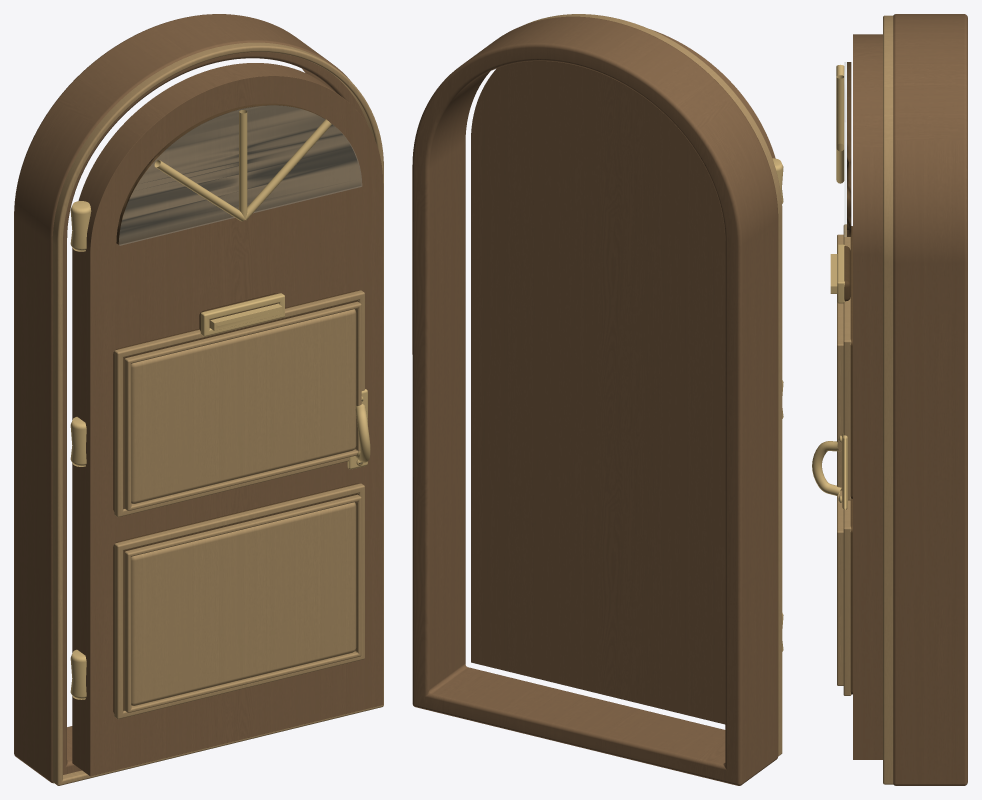
Rendered from about-back.glb.
3 views of the same model, side by side, from view 1: azimuth 30°, elevation 25°; view 2: azimuth 150°, elevation 25°; view 3: azimuth 270°, elevation 25° (orthographic). The views are drawn at different scales.
Visible parts, largest first — view 1: hinge_left__Joinery_warm_walnut, hinge_left__Joinery_honey_oak, frame__Joinery_warm_walnut, hinge_left__Joinery_recessed_walnut, hinge_left__Joinery_clear_glass, frame__Joinery_honey_oak, hinge_left__Joinery_brass_fittings; view 2: hinge_left__Joinery_warm_walnut, frame__Joinery_warm_walnut, frame__Joinery_honey_oak; view 3: frame__Joinery_warm_walnut, hinge_left__Joinery_warm_walnut, frame__Joinery_honey_oak, hinge_left__Joinery_honey_oak, hinge_left__Joinery_brass_fittings, hinge_left__Joinery_recessed_walnut, hinge_left__Joinery_clear_glass.
Boxes of the visible parts, <box> form: hinge_left__Joinery_warm_walnut: <box>72,63,383,776</box>; hinge_left__Joinery_honey_oak: <box>114,290,364,719</box>; frame__Joinery_warm_walnut: <box>14,14,367,783</box>; hinge_left__Joinery_recessed_walnut: <box>113,103,360,713</box>; hinge_left__Joinery_clear_glass: <box>119,105,361,245</box>; frame__Joinery_honey_oak: <box>52,42,383,785</box>; hinge_left__Joinery_brass_fittings: <box>70,110,370,699</box>; hinge_left__Joinery_warm_walnut: <box>471,29,775,724</box>; frame__Joinery_warm_walnut: <box>412,16,778,785</box>; frame__Joinery_honey_oak: <box>524,14,782,756</box>; frame__Joinery_warm_walnut: <box>893,14,967,785</box>; hinge_left__Joinery_warm_walnut: <box>853,34,882,759</box>; frame__Joinery_honey_oak: <box>883,15,893,784</box>; hinge_left__Joinery_honey_oak: <box>837,224,851,695</box>; hinge_left__Joinery_brass_fittings: <box>812,64,847,509</box>; hinge_left__Joinery_recessed_walnut: <box>844,62,852,694</box>; hinge_left__Joinery_clear_glass: <box>844,62,846,236</box>.
Size of the model in its own units: 1.17 by 2.37 by 0.4949.
Materials: 6 (3 with a texture image).
